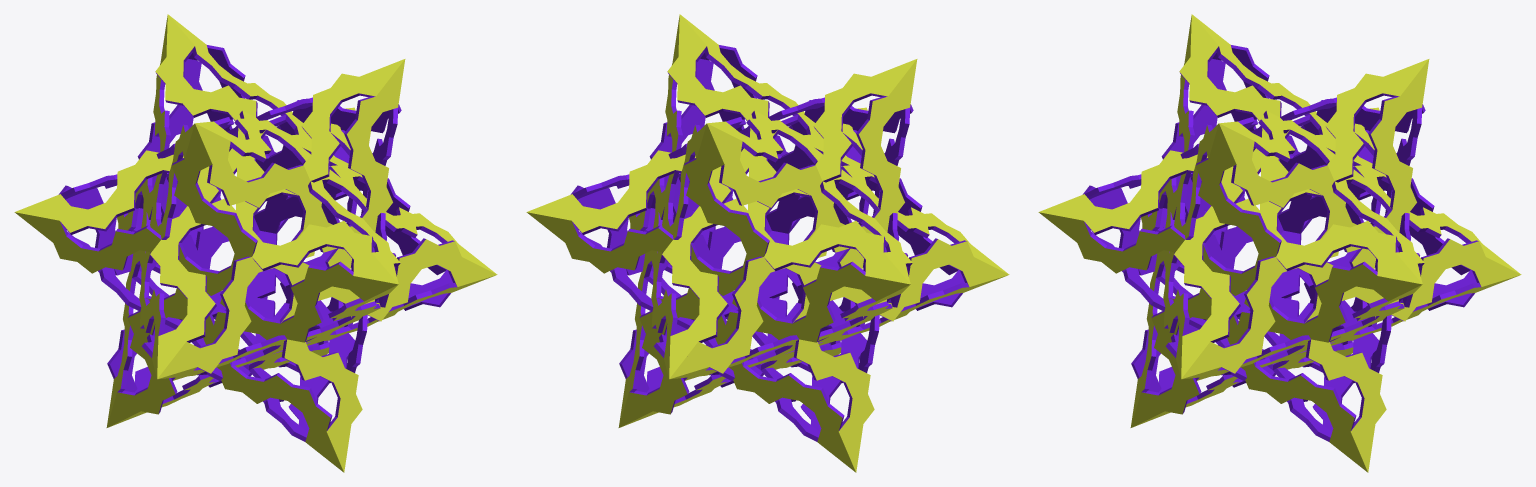
File: StarDodecahedronPolyknot18.glb
3 renders of one model, left to right at view 1: azimuth 30°, elevation 25°; view 2: azimuth 150°, elevation 25°; view 3: azimuth 270°, elevation 25°, orthographic.
Parts seen in each view (by area): view 1: ESCHER_5.0_TELLATED_DODECAHEDRON_1Augmented_Penta_Prism; view 2: ESCHER_5.0_TELLATED_DODECAHEDRON_1Augmented_Penta_Prism; view 3: ESCHER_5.0_TELLATED_DODECAHEDRON_1Augmented_Penta_Prism.
Boxes of the visible parts, <box> form: ESCHER_5.0_TELLATED_DODECAHEDRON_1Augmented_Penta_Prism: <box>14,14,497,472</box>; ESCHER_5.0_TELLATED_DODECAHEDRON_1Augmented_Penta_Prism: <box>526,14,1009,472</box>; ESCHER_5.0_TELLATED_DODECAHEDRON_1Augmented_Penta_Prism: <box>1038,14,1521,472</box>.
Bounding box in the file's own units: 113 × 100 × 123.
